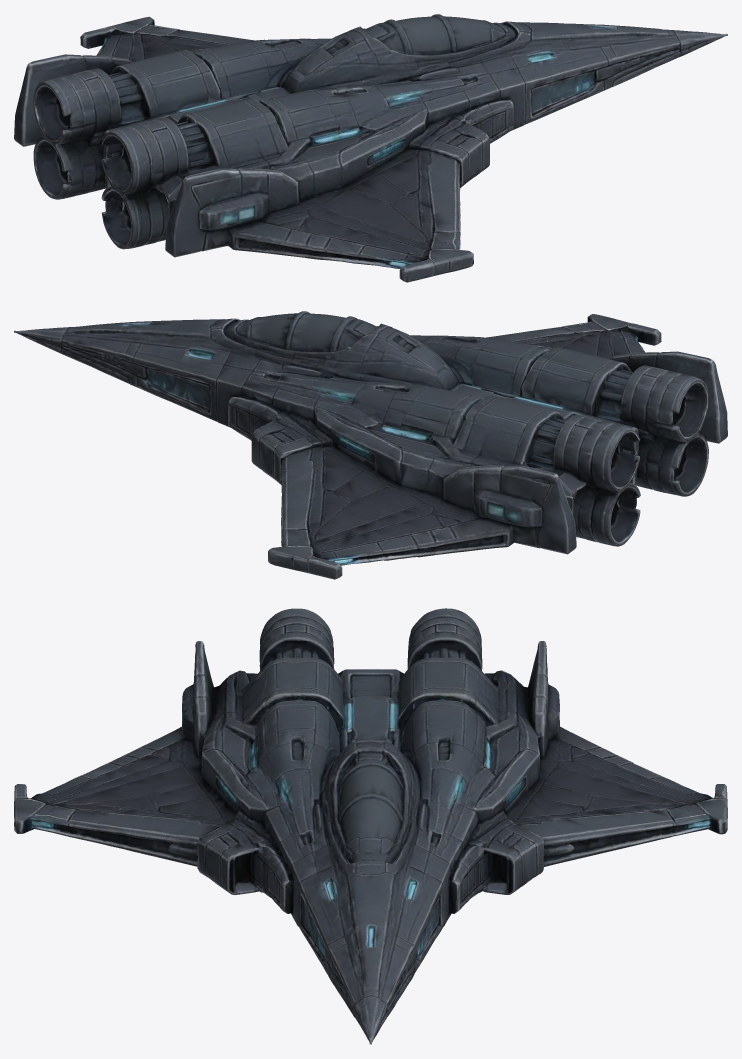
File: vanguard.glb
3 views of the same model, one above another, from view 1: azimuth 30°, elevation 25°; view 2: azimuth 150°, elevation 25°; view 3: azimuth 270°, elevation 25° (orthographic). The views are drawn at different scales.
Visible parts, largest first — view 1: tripo_node_1208e508-0453-40be-a233-e5758c277071; view 2: tripo_node_1208e508-0453-40be-a233-e5758c277071; view 3: tripo_node_1208e508-0453-40be-a233-e5758c277071.
Boxes of the visible parts, x1,y1,x2,y2 form: tripo_node_1208e508-0453-40be-a233-e5758c277071: (14, 14, 727, 282); tripo_node_1208e508-0453-40be-a233-e5758c277071: (14, 311, 727, 579); tripo_node_1208e508-0453-40be-a233-e5758c277071: (14, 608, 727, 1044).
Bounding box in the file's own units: 1 × 0.1852 × 0.8739.
1 material, 1 textured.
